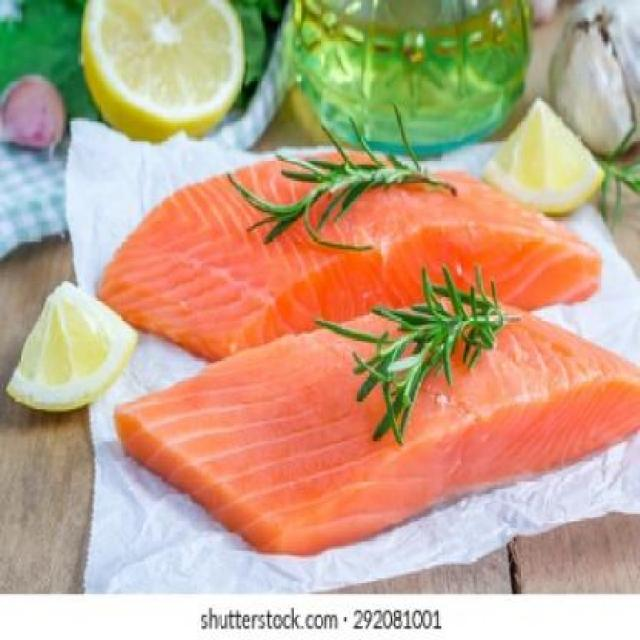salmon: (115, 294, 640, 537), (88, 132, 609, 354)
